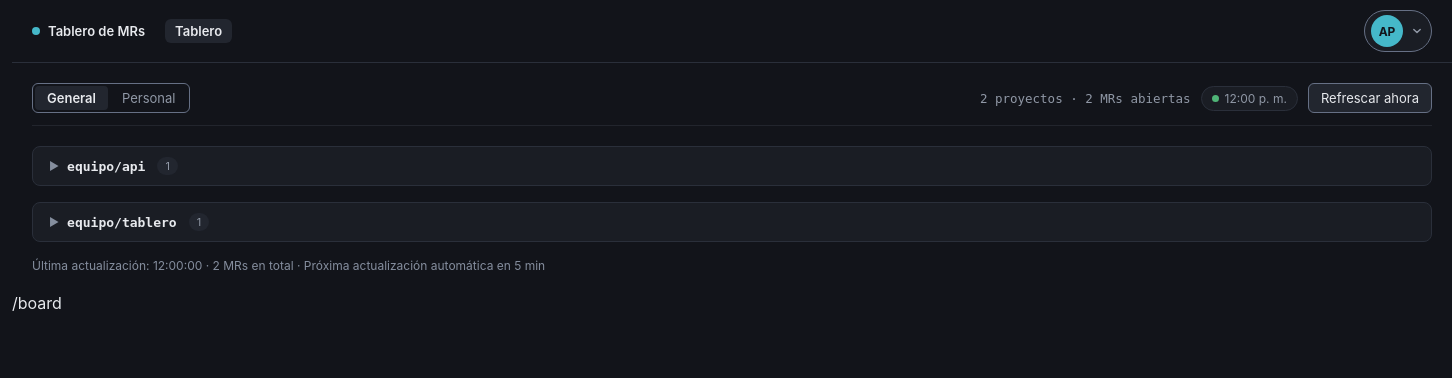
Scenario: vista personal de quien no es administrador › pide configurar el nickname cuando el backend no informa ninguno
The image size is (1452, 378).
Step 1. Click the button "Personal" → coordinates (149, 98), box [110,86,188,110]
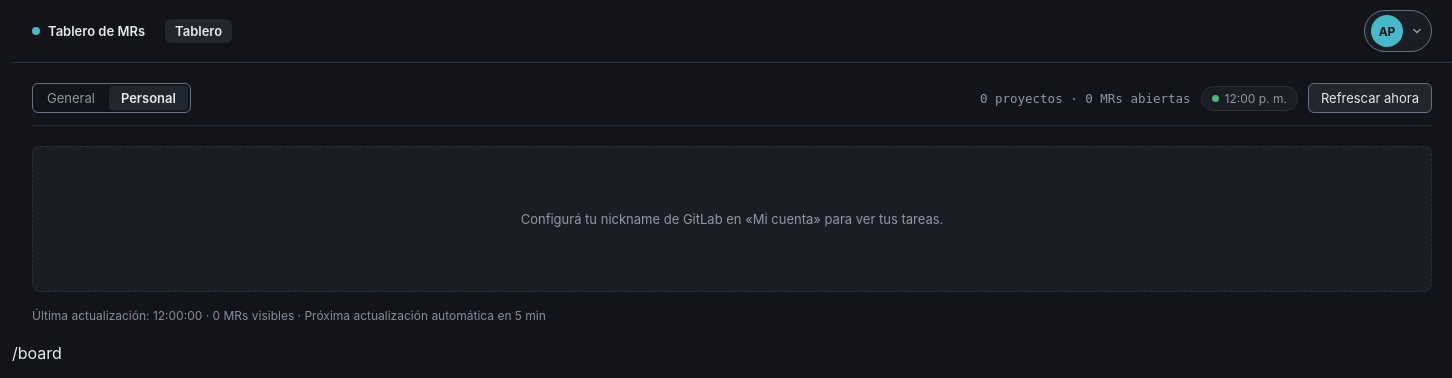
Result: the message "Configurá tu nickname de GitLab en «Mi cuenta» para ver tus tareas." is shown at [32,146,1432,292]
